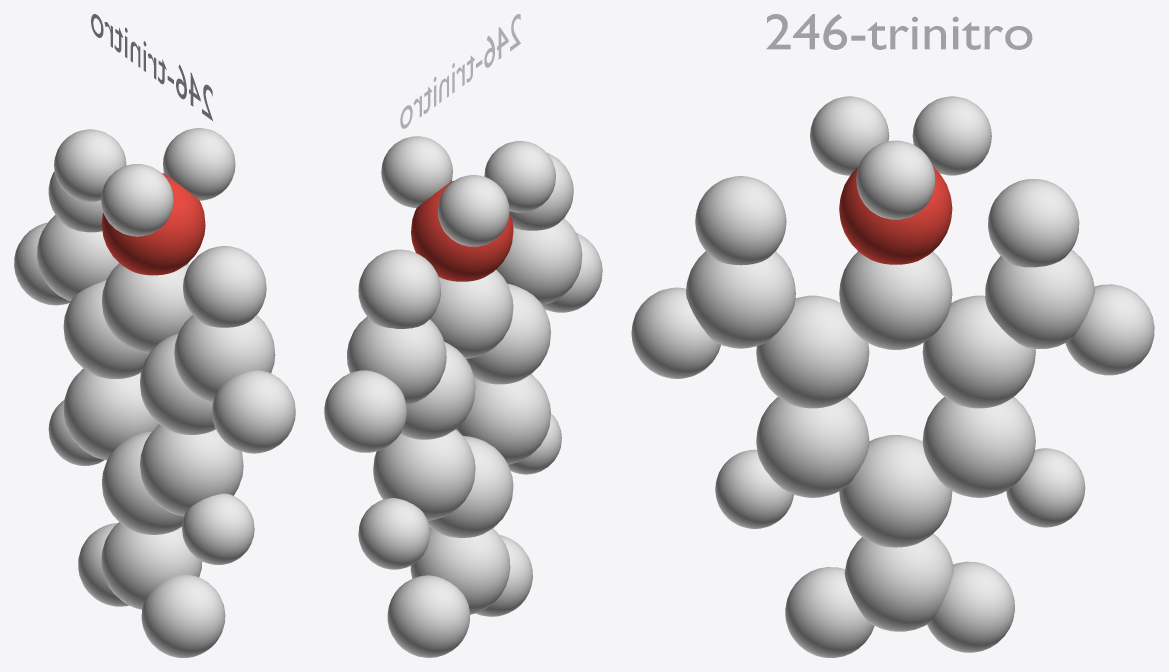
The model's file is 246-trinitro.glb.
The picture shows the model from 3 angles, left to right: view 1: azimuth 30°, elevation 25°; view 2: azimuth 150°, elevation 25°; view 3: azimuth 270°, elevation 25°; orthographic projection. The views are drawn at different scales.
Parts seen in each view (by area): view 1: Molecule_球体.018, Text.006; view 2: Molecule_球体.018, Text.006; view 3: Molecule_球体.018, Text.006.
Part boxes in pixels (<box>): Molecule_球体.018: <box>14,128,295,657</box>; Text.006: <box>91,14,212,120</box>; Molecule_球体.018: <box>324,136,602,657</box>; Text.006: <box>400,14,520,128</box>; Molecule_球体.018: <box>631,96,1154,657</box>; Text.006: <box>766,14,1032,49</box>.
Size of the model in its own units: 3.25 by 12.47 by 9.24.
